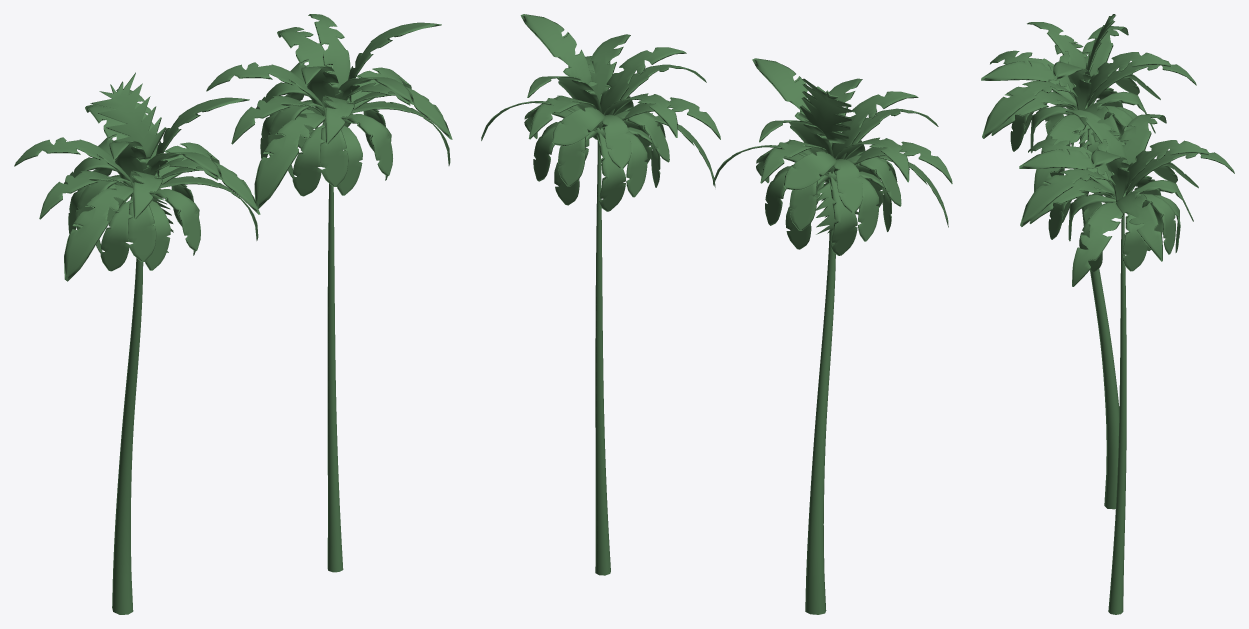
The model's file is palmtrees_1_2.fbx.
The picture shows the model from 3 angles, left to right: view 1: azimuth 30°, elevation 25°; view 2: azimuth 150°, elevation 25°; view 3: azimuth 270°, elevation 25°; orthographic projection. The views are drawn at different scales.
Visible parts, largest first — view 1: plant_palmtree_02, plant_palmtree_01; view 2: plant_palmtree_02, plant_palmtree_01; view 3: plant_palmtree_01, plant_palmtree_02.
Boxes of the visible parts, <box> form: plant_palmtree_02: <box>14,72,260,614</box>; plant_palmtree_01: <box>206,14,452,572</box>; plant_palmtree_02: <box>713,58,952,614</box>; plant_palmtree_01: <box>481,14,720,575</box>; plant_palmtree_01: <box>1019,110,1234,614</box>; plant_palmtree_02: <box>981,14,1196,509</box>.
Size of the model in its own units: 26.05 by 32.2 by 14.78.
